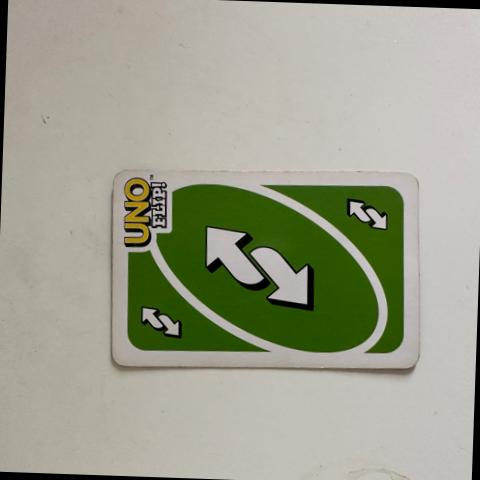lgreenrevers-20: (122, 281, 199, 358)
